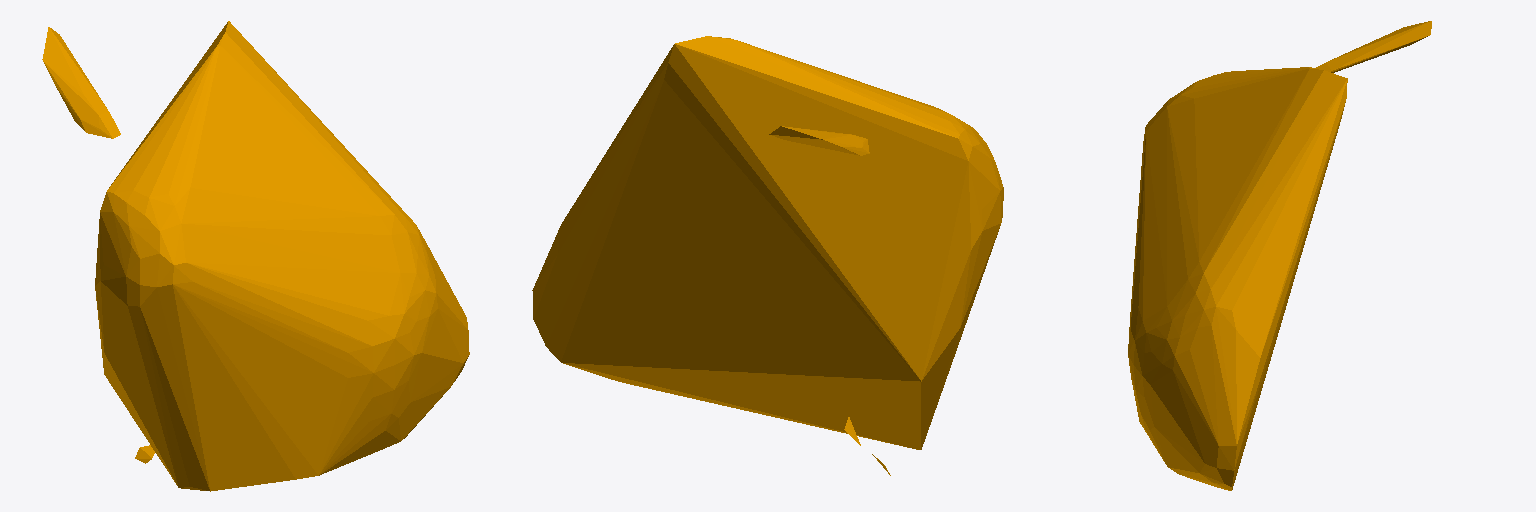
robot.urdf — pcd_stl.urdf:
<?xml version="0.0" ?>
<robot name="pcd_stl.urdf">
  <link name="pcd_stl_trial">
  <contact>
      <lateral_friction value="1.0"/>
      <rolling_friction value="0.0"/>
      <contact_cfm value="0.0"/>
      <contact_erp value="1.0"/>
  </contact>
    <visual>
      <origin rpy="1.5707 0. 0" xyz="-0.015 0.011 0.0852"/>
      <geometry>
        <mesh filename="mesh_hull.STL" scale="1 1 1" />
      </geometry>
    </visual>
    <inertial>
      <origin rpy="0 0 0" xyz="0.000000 0.000000 0.000000"/>
      <mass value="0.0001"/>
      <inertia ixx="1e-08" ixy="0" ixz="0" iyy="1e-08" iyz="0" izz="1e-08"/>
    </inertial>
    <collision>
      <origin rpy="0 0 0" xyz="0 0 0"/>
      <geometry>
        <box size=".1 .1 .1"/>
      </geometry>
    </collision>
  </link>
</robot>

--- What the picture shows (computed from the rendered views, not written in the file) ---
The picture shows the robot from 3 angles, left to right: view 1: azimuth 30°, elevation 25°; view 2: azimuth 150°, elevation 25°; view 3: azimuth 270°, elevation 25°; orthographic projection.
Robot: pcd_stl.urdf — 1 links, 0 joints (none); root link pcd_stl_trial; default pose: every joint at zero.
Visible links, largest first — view 1: pcd_stl_trial; view 2: pcd_stl_trial; view 3: pcd_stl_trial.
Link boxes in pixels (x1,y1,x2,y2): pcd_stl_trial: [42, 21, 469, 491]; pcd_stl_trial: [532, 36, 1003, 475]; pcd_stl_trial: [1128, 21, 1431, 490].
Bounding box of the posed robot: 0.1535 × 0.1128 × 0.1471 m (x, y, z).
1 mesh visuals loaded from 1 distinct referenced files (1 binary STL).